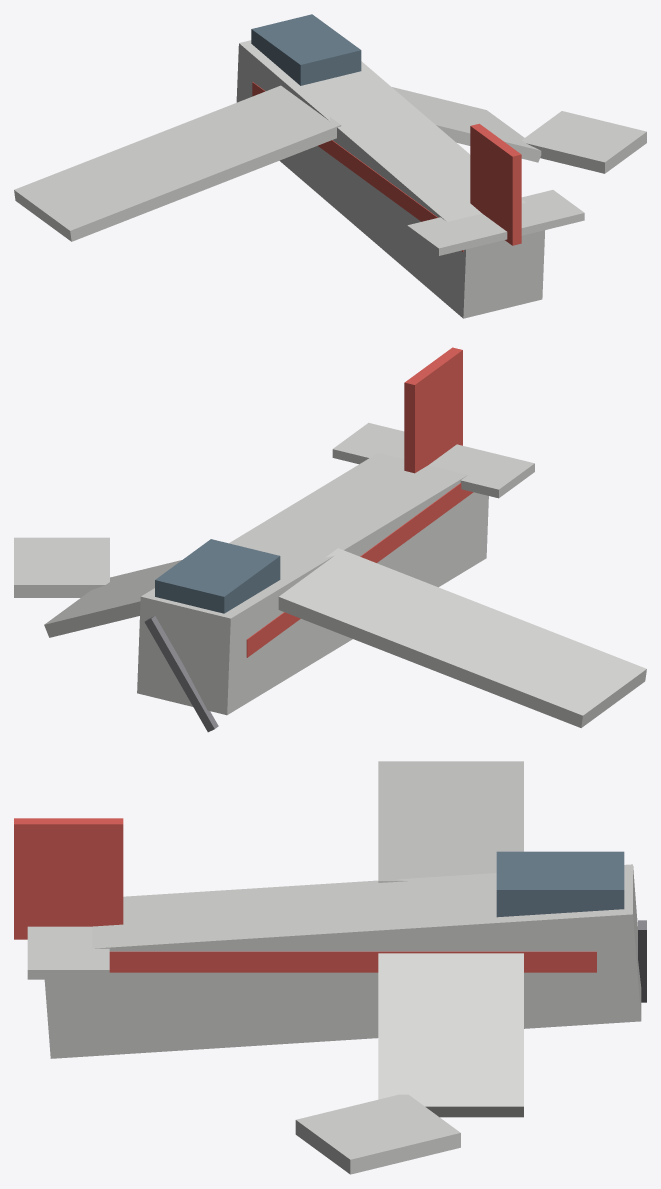
The model's file is IZ_Avioneta.fbx.
3 renders of one model, top to bottom at view 1: azimuth 30°, elevation 25°; view 2: azimuth 150°, elevation 25°; view 3: azimuth 270°, elevation 25°, orthographic. The views are drawn at different scales.
Visible parts, largest first — view 1: IZ_Avioneta; view 2: IZ_Avioneta; view 3: IZ_Avioneta.
Part boxes in pixels (bbox=[...]): IZ_Avioneta: bbox=[14, 14, 646, 318]; IZ_Avioneta: bbox=[14, 347, 646, 732]; IZ_Avioneta: bbox=[14, 761, 646, 1174].
Bounding box in the file's own units: 9.31 × 2.58 × 6.95.
